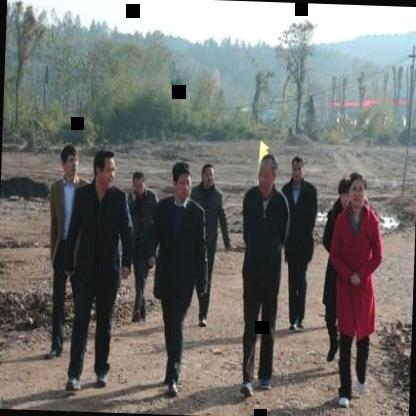head: (90, 142, 119, 194), (169, 160, 194, 202), (258, 150, 280, 194), (346, 171, 368, 212), (58, 141, 80, 180), (198, 160, 218, 196), (288, 150, 307, 186), (334, 176, 353, 210), (130, 168, 146, 194)
